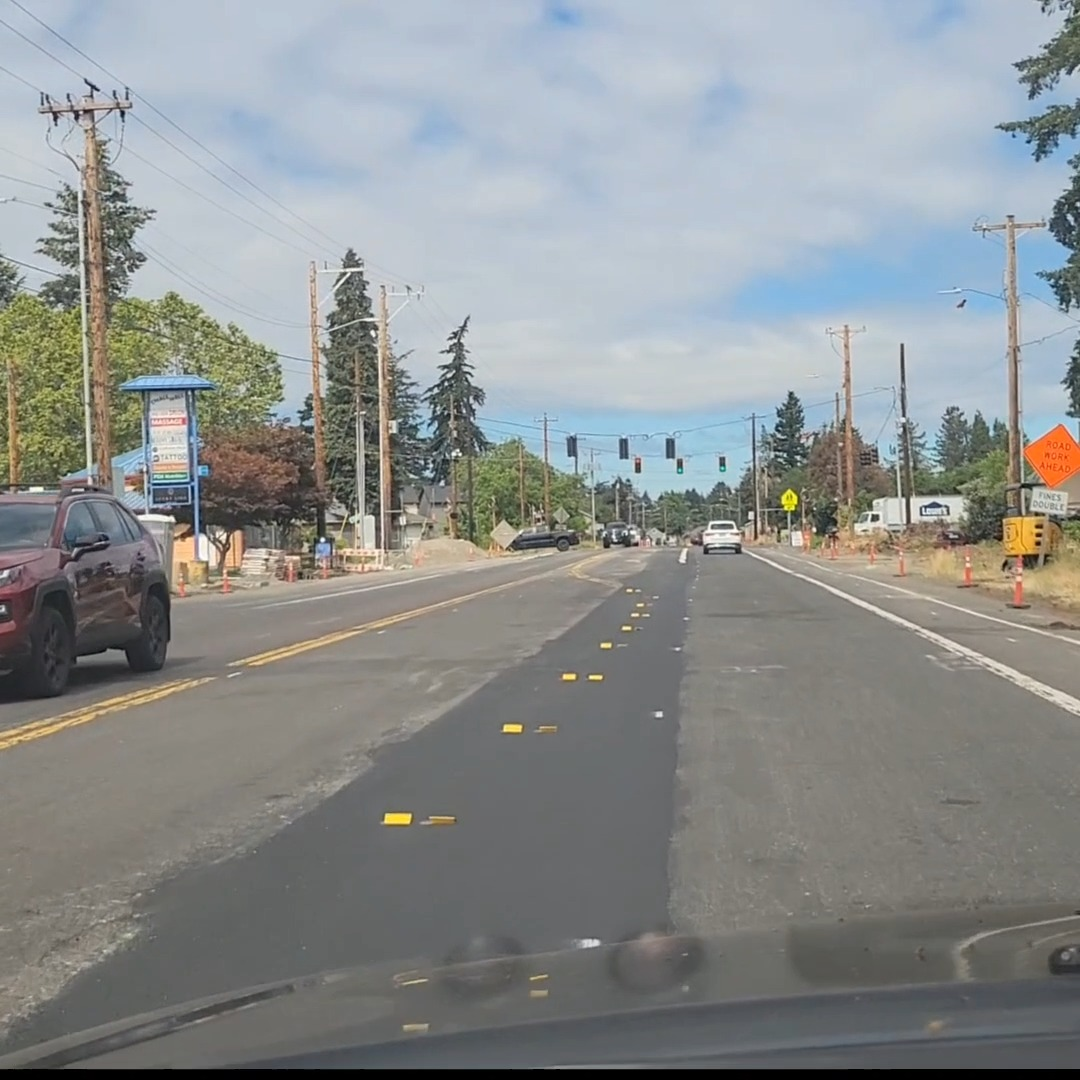car: (1, 481, 176, 692), (506, 523, 580, 551), (700, 520, 743, 554), (598, 520, 637, 548), (933, 528, 966, 548), (684, 526, 705, 546)
crosswalk-sign: (780, 488, 798, 511), (550, 504, 568, 523)
delineator: (1005, 561, 1031, 609), (958, 549, 977, 587), (892, 542, 908, 577), (217, 567, 235, 598), (412, 543, 427, 565), (828, 536, 839, 560), (866, 540, 876, 564), (318, 557, 329, 578), (1011, 556, 1023, 575), (285, 562, 296, 582), (801, 529, 810, 552), (487, 539, 498, 557), (846, 534, 855, 552), (816, 533, 823, 555), (467, 543, 475, 560)
